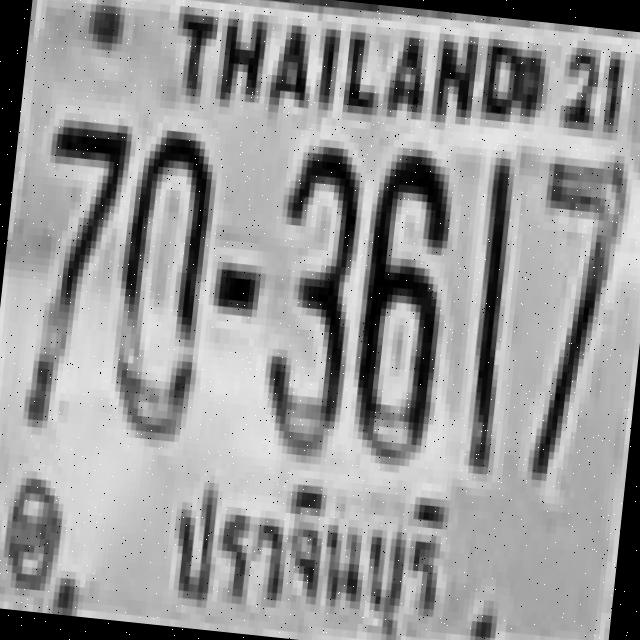0: (101, 120, 216, 436)
1: (460, 154, 516, 456), (464, 153, 516, 419)
3: (252, 135, 363, 451)
6: (344, 140, 454, 457)
7: (512, 152, 628, 474), (18, 110, 128, 427), (522, 152, 628, 387)
PrachinBuri: (151, 454, 453, 640)
